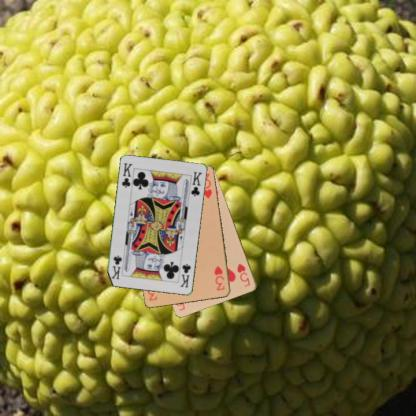3h: (211, 263, 226, 292)
5h: (235, 260, 252, 288)
Kc: (177, 261, 192, 289), (119, 161, 134, 189)
